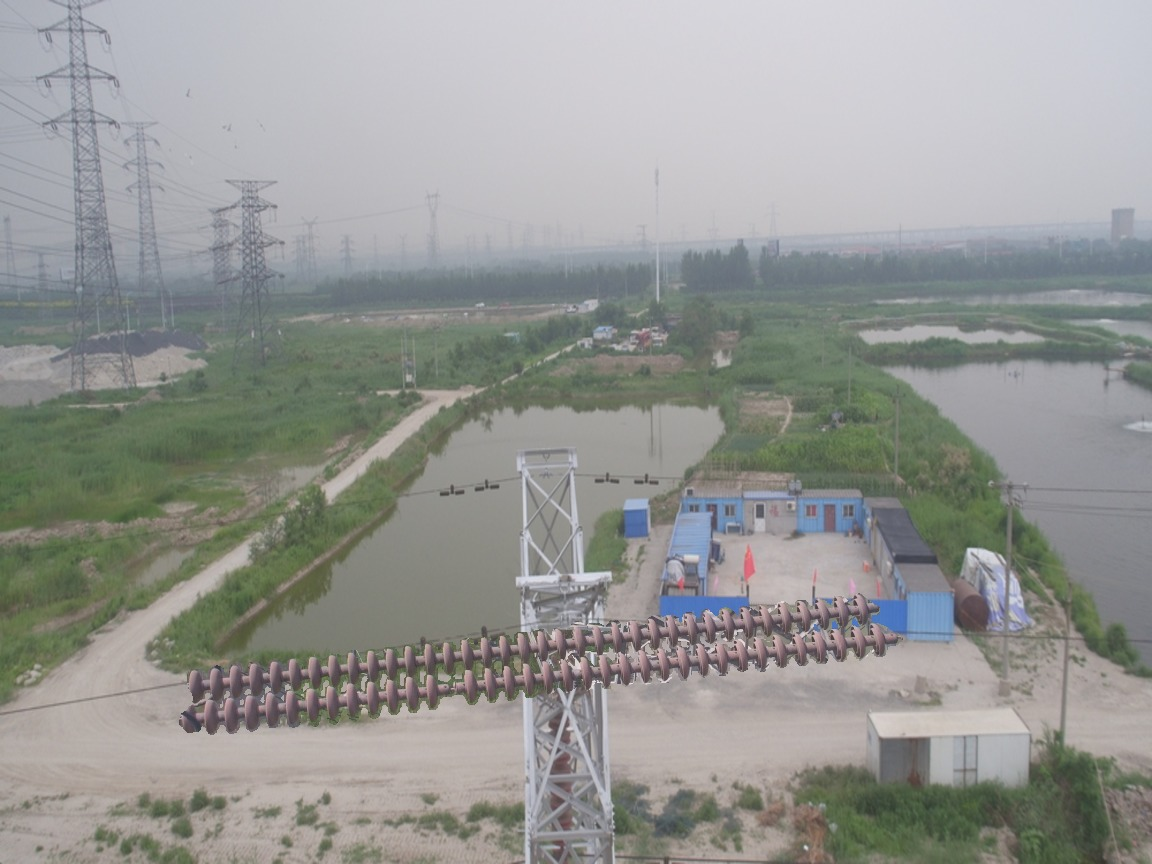defect: (419, 667, 484, 713)
